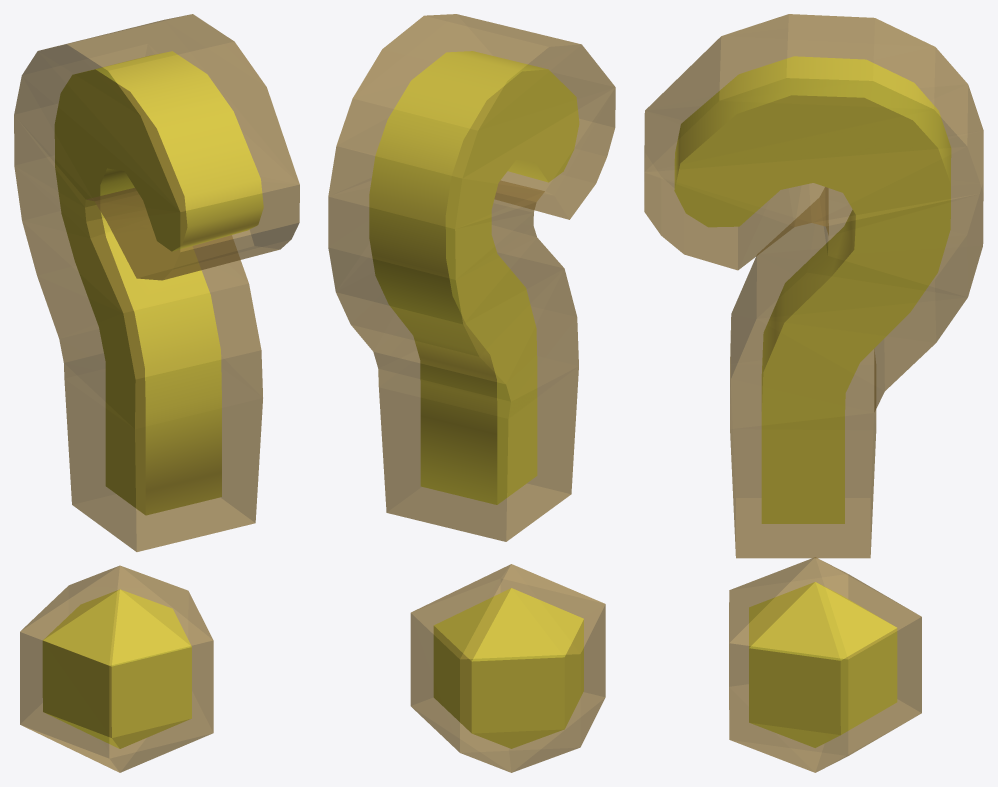
Rendered from quest_marker.fbx.
3 renders of one model, left to right at view 1: azimuth 30°, elevation 25°; view 2: azimuth 150°, elevation 25°; view 3: azimuth 270°, elevation 25°, orthographic. The views are drawn at different scales.
Parts seen in each view (by area): view 1: complete; view 2: complete; view 3: complete.
Boxes of the visible parts, left/top/right/bottom form: complete: left=14, top=14, right=299, bottom=772; complete: left=328, top=14, right=615, bottom=772; complete: left=644, top=14, right=983, bottom=772.
Size of the model in its own units: 249 by 897 by 370.
